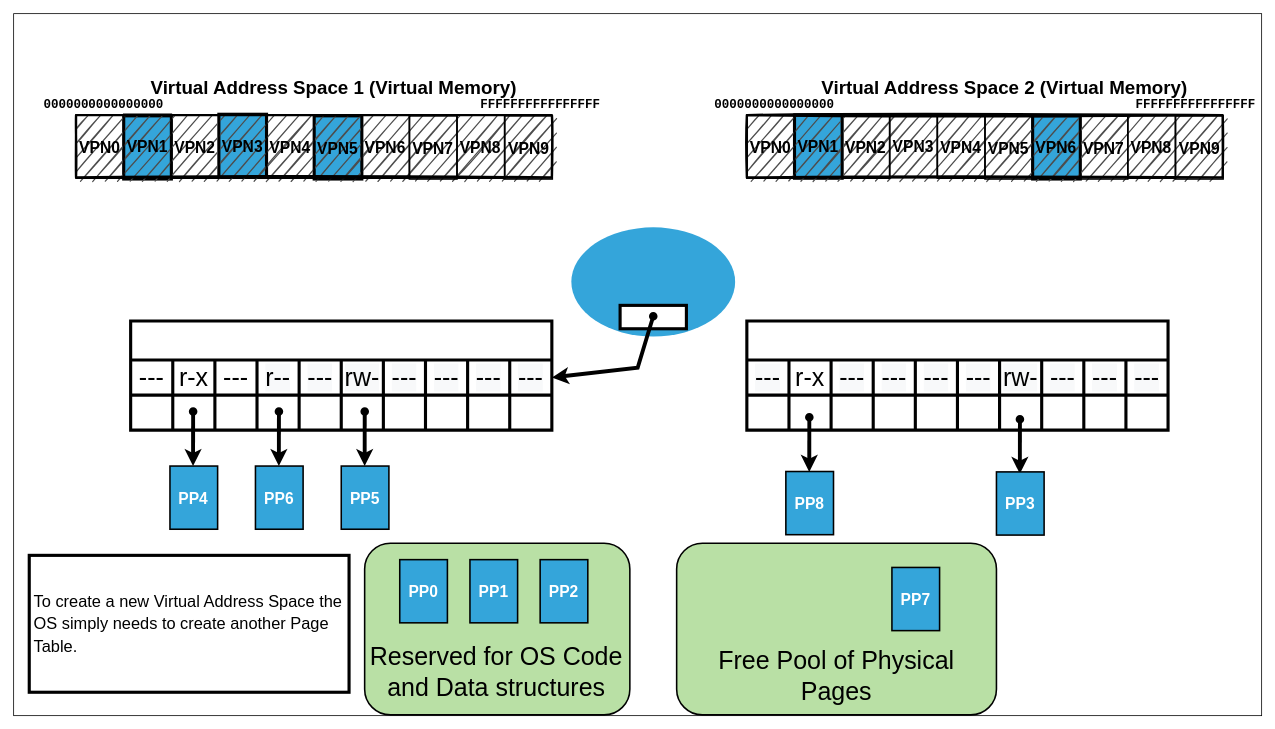
Image size: 1275x729. Some labels were removed from this diagram. Each missing label, with the box of its shape:
CPU: (571, 227, 735, 336)
Page Table 1: (129, 319, 553, 431)
Page Table 2: (745, 319, 1169, 431)
